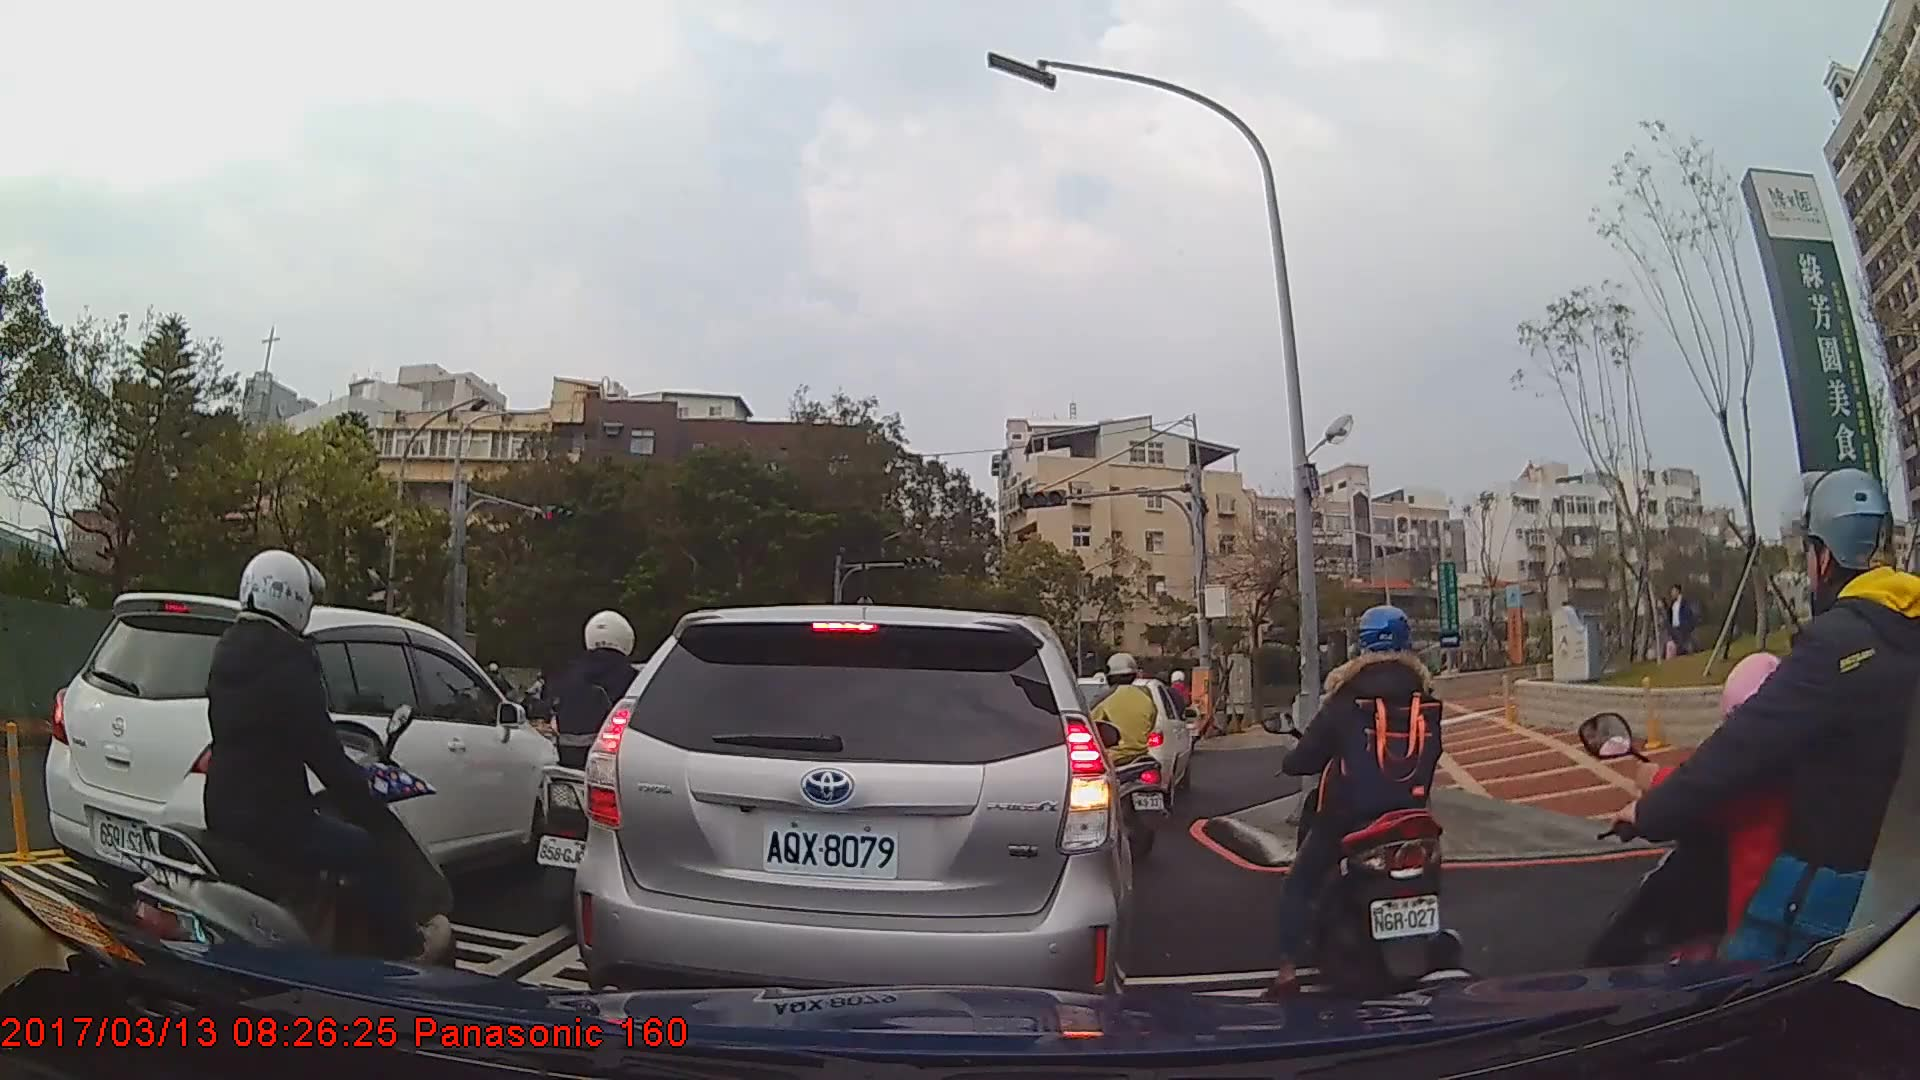pedestrian: (1656, 580, 1701, 664), (1640, 584, 1681, 677)
rider: (1573, 464, 1920, 1066), (133, 549, 463, 1000), (1253, 604, 1460, 1002), (533, 609, 691, 942), (1069, 649, 1172, 863)
vehicle: (570, 601, 1136, 1030), (44, 591, 570, 933)
